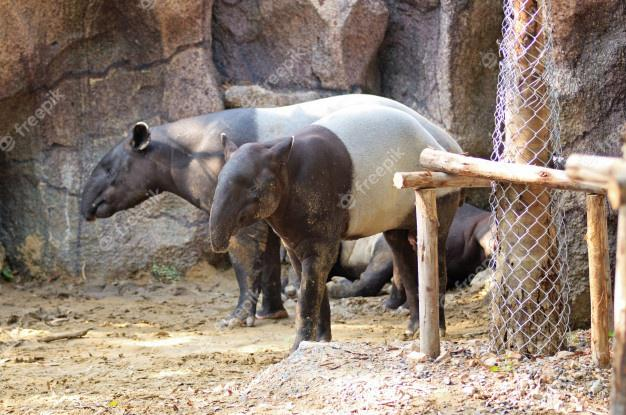Anta: (79, 91, 474, 358), (212, 134, 464, 338)
